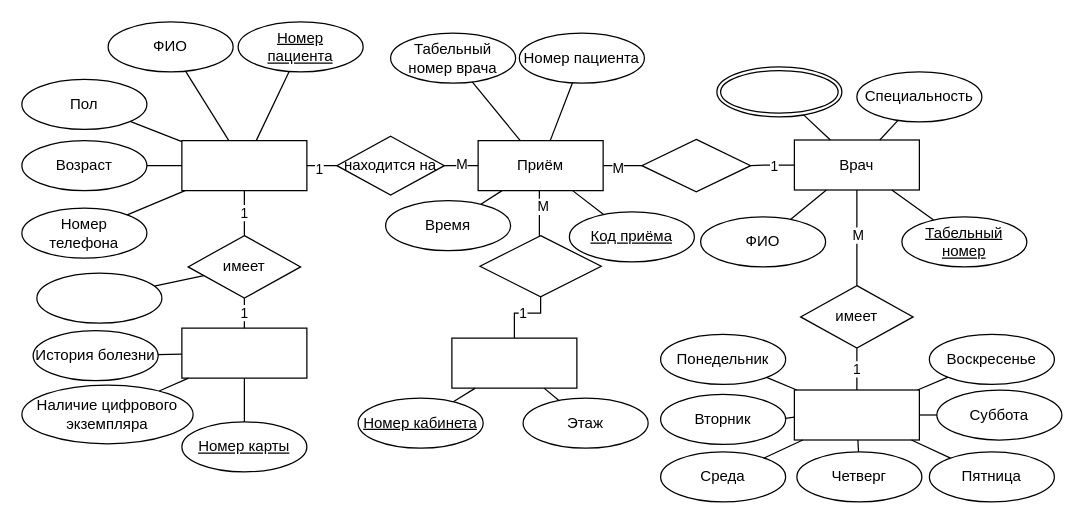
The diagram is 1084 pixels wide and 524 high, and some of its shapes have lost their labels. Here are the shapes that lost their labels. From the top down, the centre of each, then its label:
the point at 779,91: Стаж
the point at 244,165: Пациент
the point at 696,165: проведение
the point at 540,265: происходит
the point at 99,297: Дата приобретения
the point at 244,352: Мед карта
the point at 514,362: Кабинет
the point at 856,414: расписание
